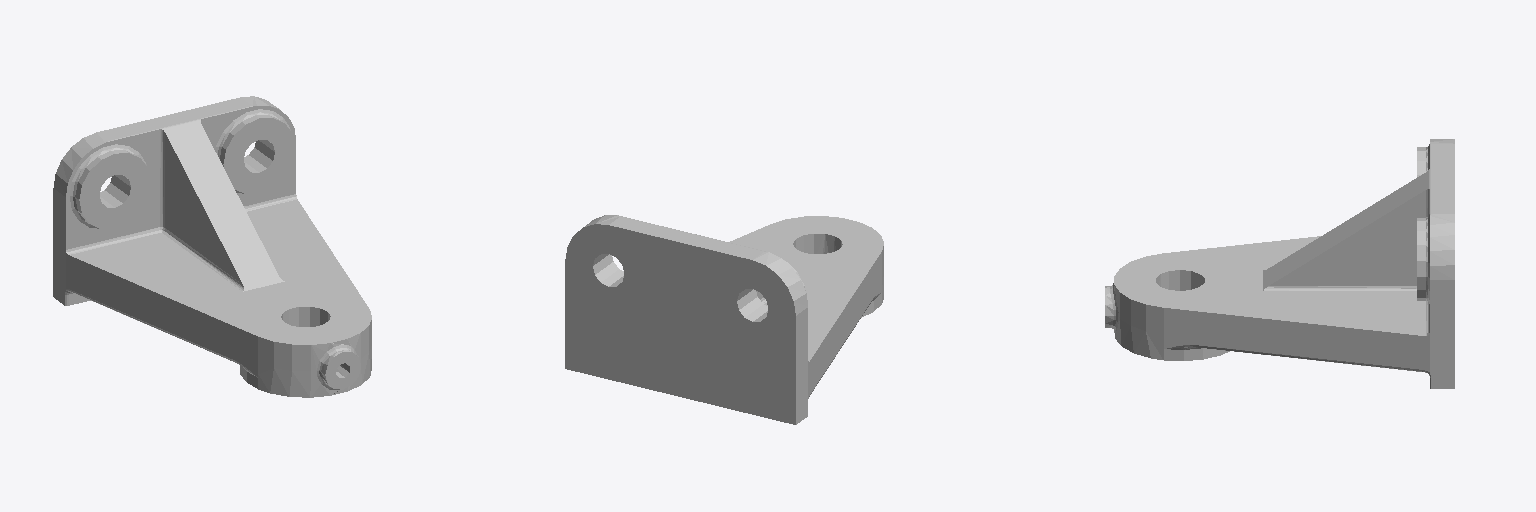
Rendered from chao.obj.
The picture shows the model from 3 angles: view 1: azimuth 30°, elevation 25°; view 2: azimuth 150°, elevation 25°; view 3: azimuth 270°, elevation 25°; orthographic projection.
Bounding box in the file's own units: 64 × 41 × 84.